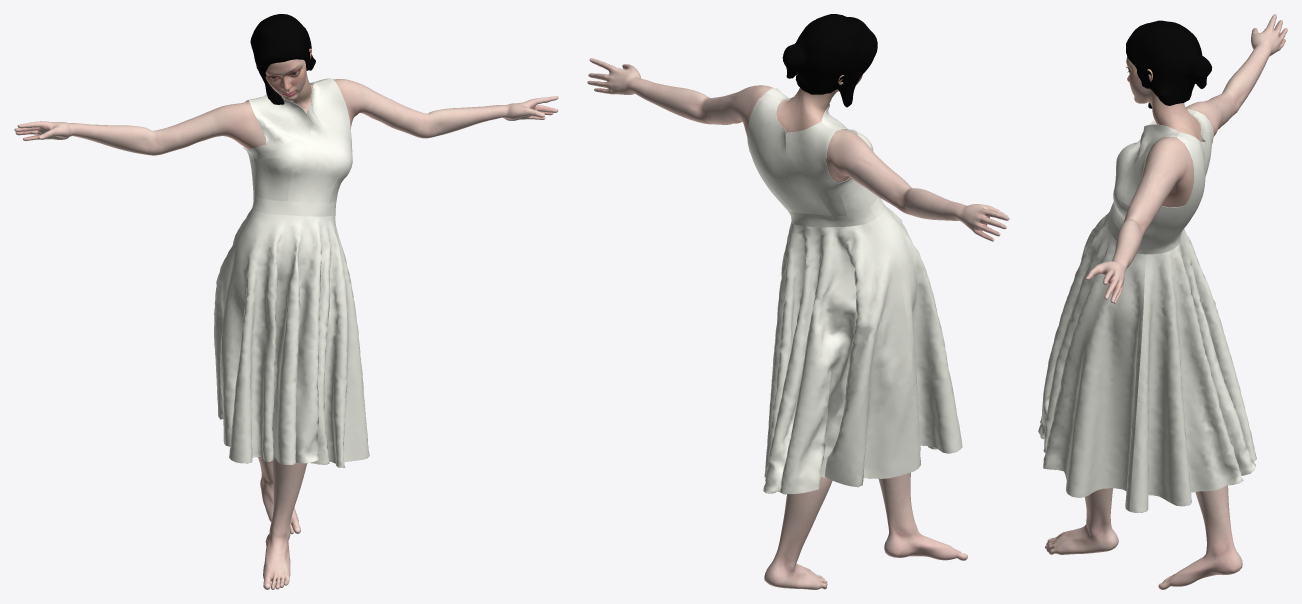
File: Custom_View_10__Dynamic_2.obj
3 renders of one model, left to right at view 1: azimuth 30°, elevation 25°; view 2: azimuth 150°, elevation 25°; view 3: azimuth 270°, elevation 25°, orthographic. The views are drawn at different scales.
Bounding box in the file's own units: 1601 × 1717 × 698.
